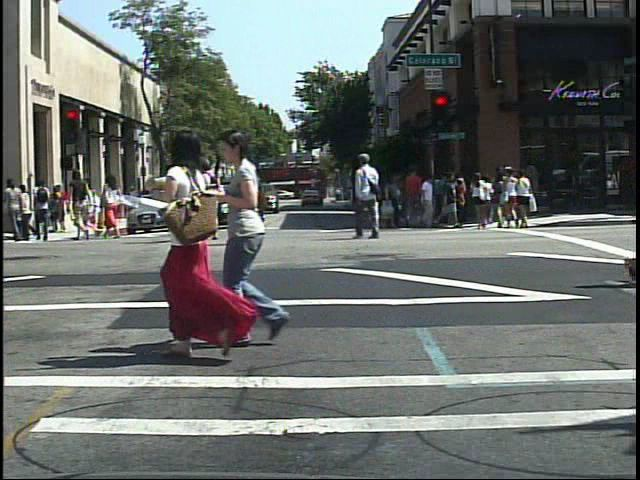person: (133, 127, 253, 358), (212, 126, 315, 352), (162, 154, 198, 244), (354, 149, 386, 242), (495, 163, 533, 232), (198, 155, 227, 245), (67, 166, 95, 244), (100, 170, 128, 242), (470, 169, 494, 233), (3, 177, 25, 244), (32, 177, 54, 243)
